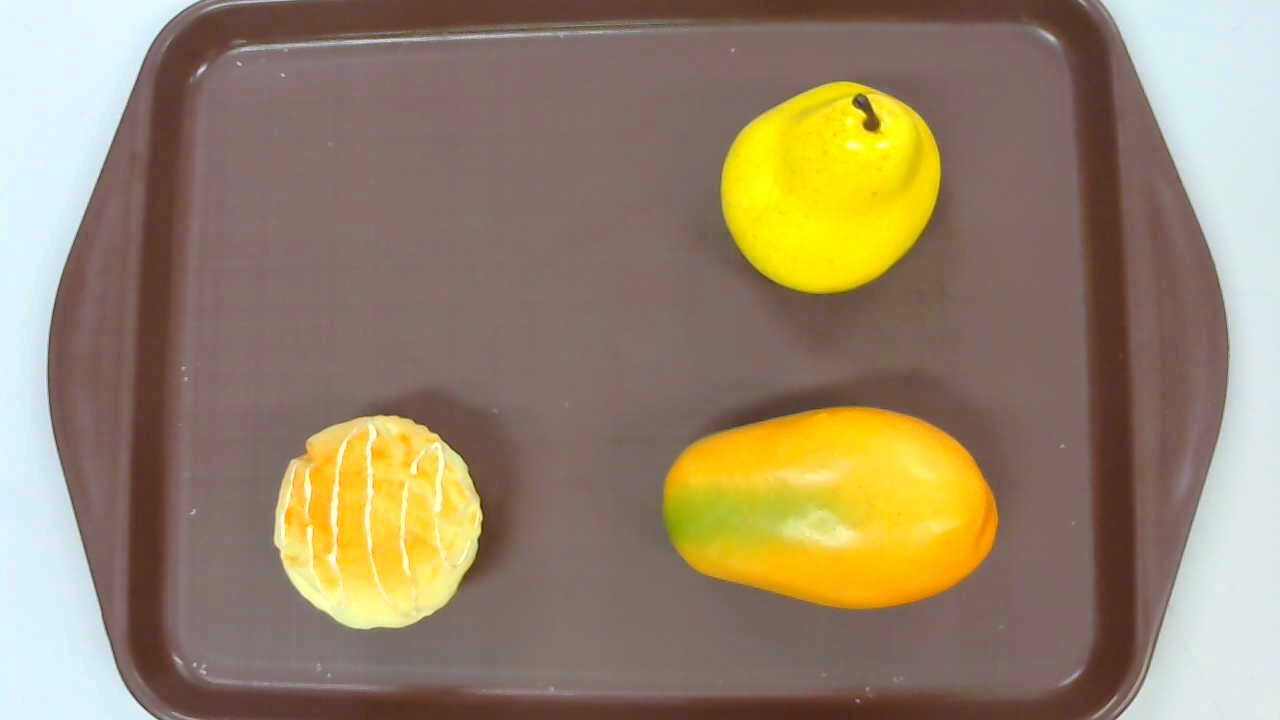cupcake: (273, 416, 483, 630)
papya: (663, 405, 997, 611)
yellow pear: (719, 80, 941, 293)
